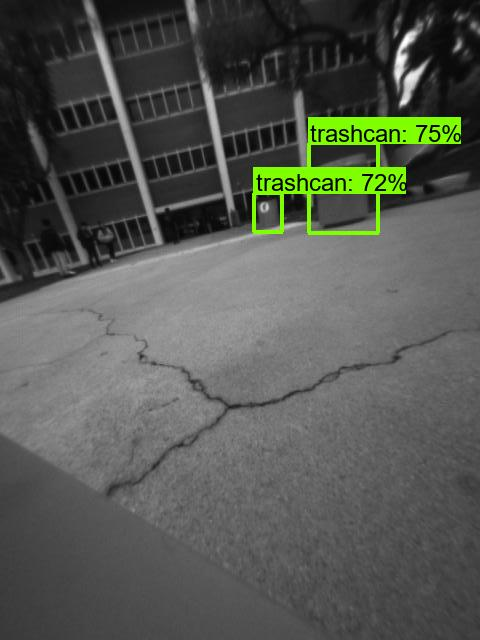trashcan: (313, 150, 373, 230), (255, 194, 284, 230)
